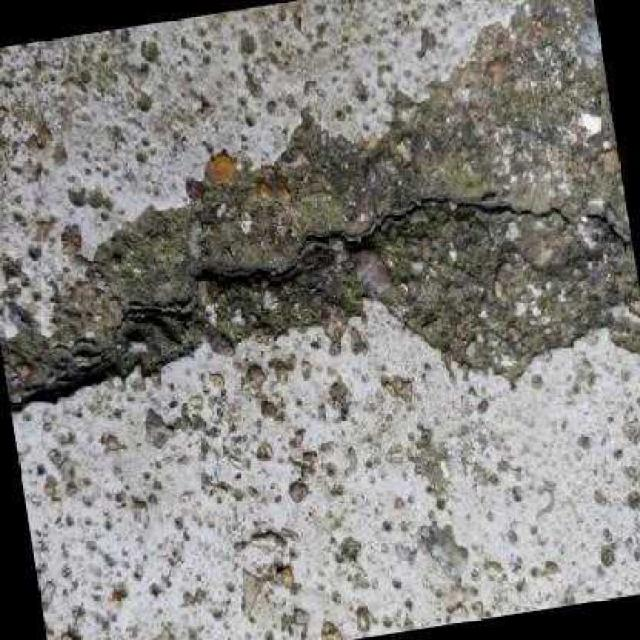D00: (6, 183, 632, 421)
